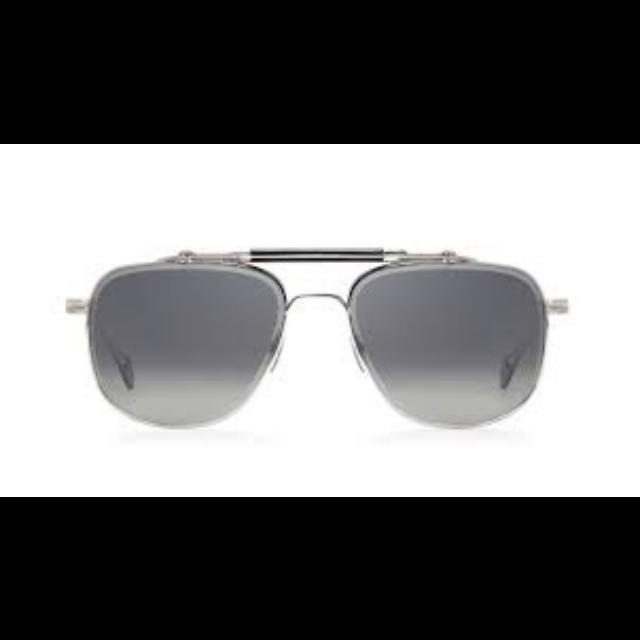sunglasses: (64, 247, 572, 431)
